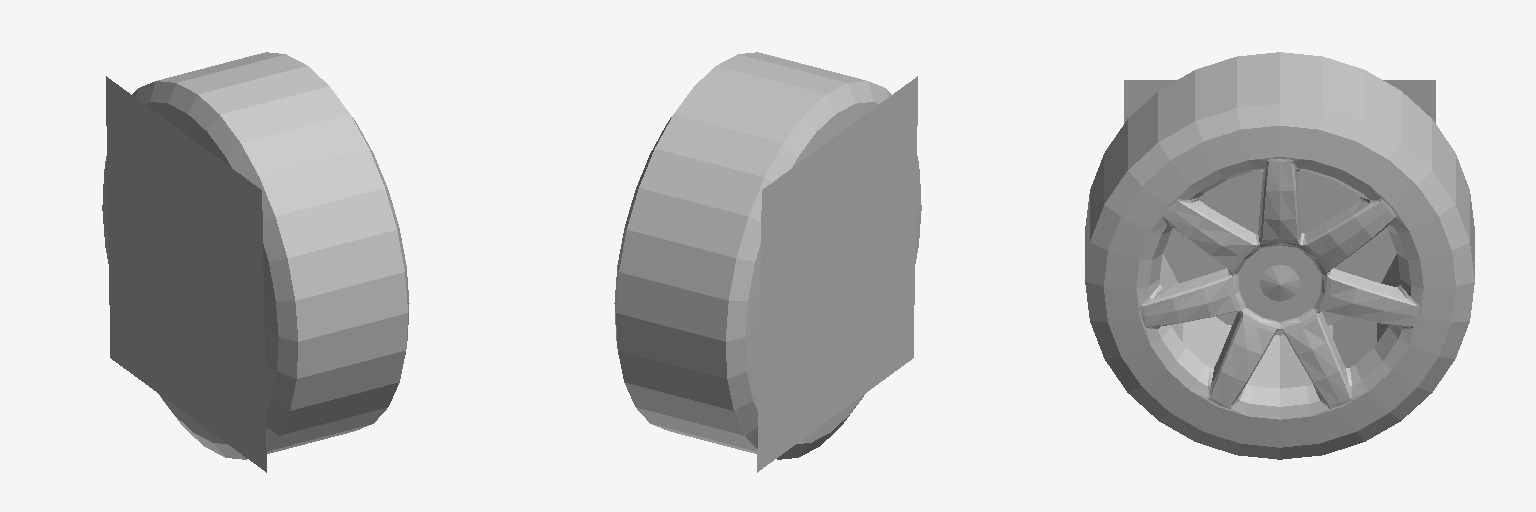
The model's file is SL500_wheel.obj.
3 views of the same model, side by side, from view 1: azimuth 30°, elevation 25°; view 2: azimuth 150°, elevation 25°; view 3: azimuth 270°, elevation 25° (orthographic).
Visible parts, largest first — view 1: TireFL; view 2: TireFL; view 3: TireFL.
Part boxes in pixels (bbox=[...]): TireFL: bbox=[102, 52, 409, 472]; TireFL: bbox=[614, 52, 921, 472]; TireFL: bbox=[1085, 52, 1474, 459].
Size of the model in its own units: 1.04 by 2.44 by 2.43.